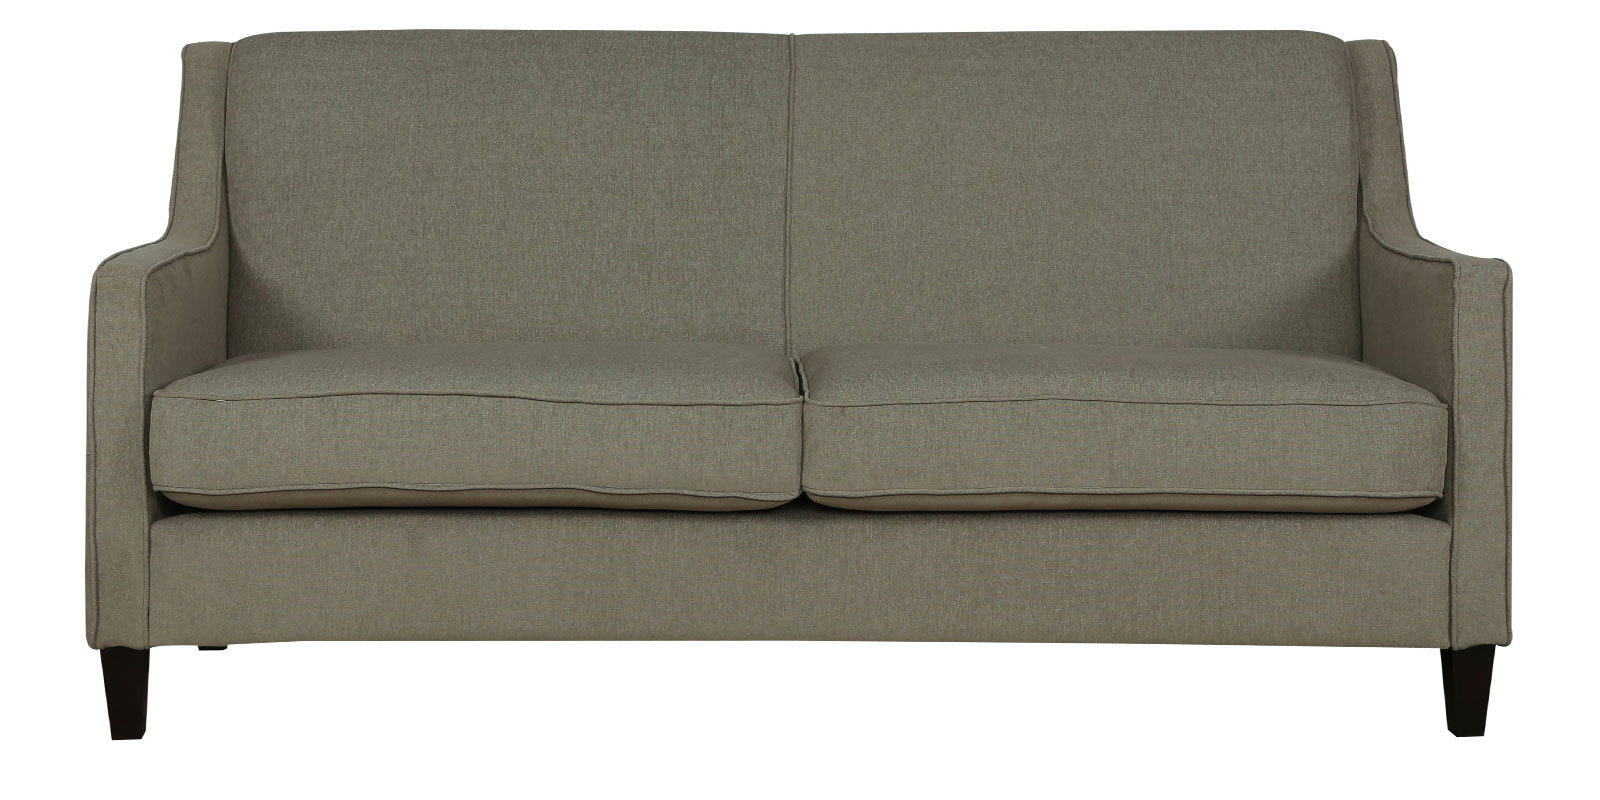Oscar Three Seater Sofa in Sandy Brown Colour by CasaCraft: (82, 26, 1515, 739)
